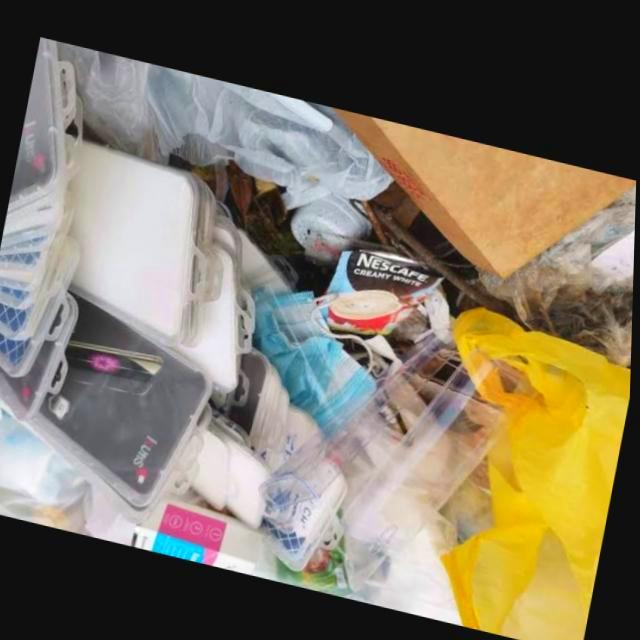plastic_bag: (446, 297, 633, 640), (56, 39, 394, 203)
plastic_container: (23, 285, 216, 521), (345, 340, 541, 548), (261, 323, 459, 505), (65, 136, 209, 344), (173, 233, 257, 389), (0, 225, 86, 375), (8, 36, 76, 211), (4, 111, 85, 236), (258, 469, 352, 568), (208, 406, 276, 524), (185, 427, 233, 506)
plastic_sachet: (326, 243, 445, 330)
